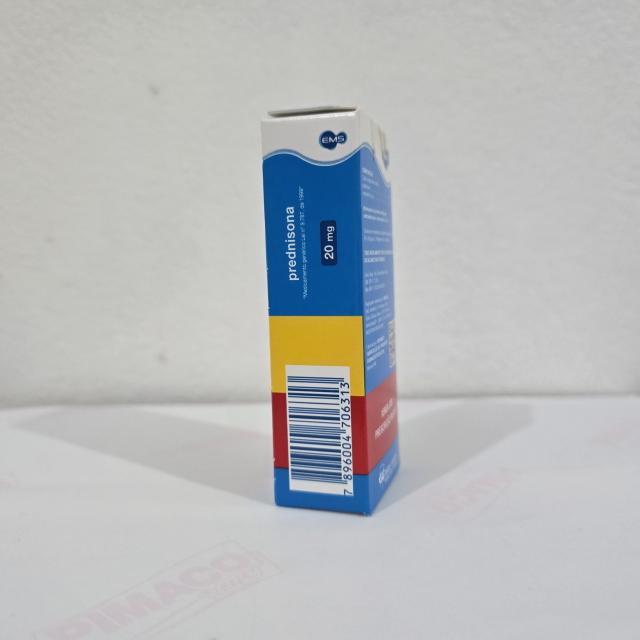prednisona: (255, 100, 407, 525)
